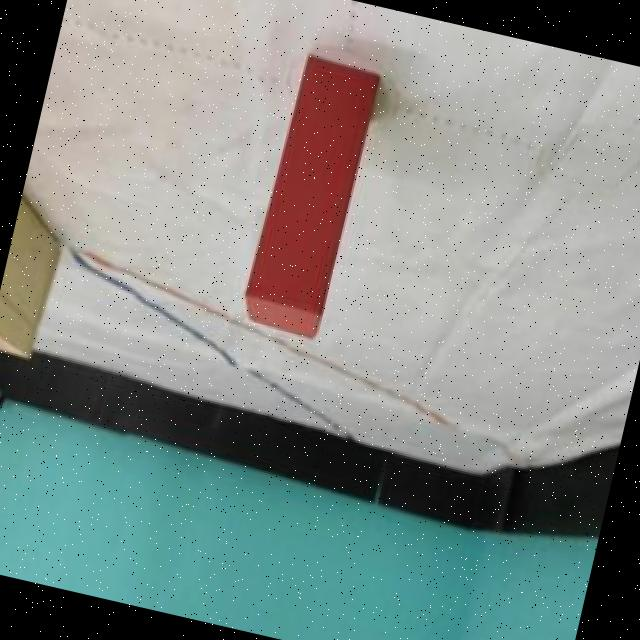redbox: (242, 53, 378, 336)
